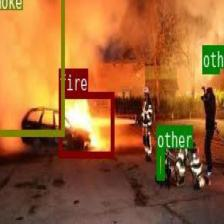fire: (58, 91, 114, 157)
smoke: (0, 0, 64, 134)
